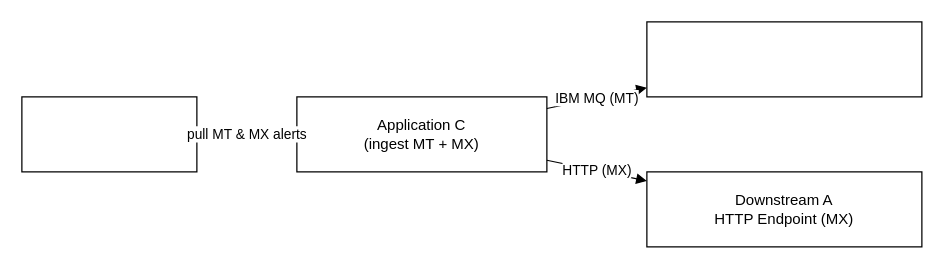
The diagram is 944 pixels wide and 269 high, and some of its shapes have lost their labels. Here are the shapes that lost their labels. From the top down, the centre of each, then its label:
the point at 784,59: Downstream A MQ Endpoint (MT)
the point at 109,134: System A DB
